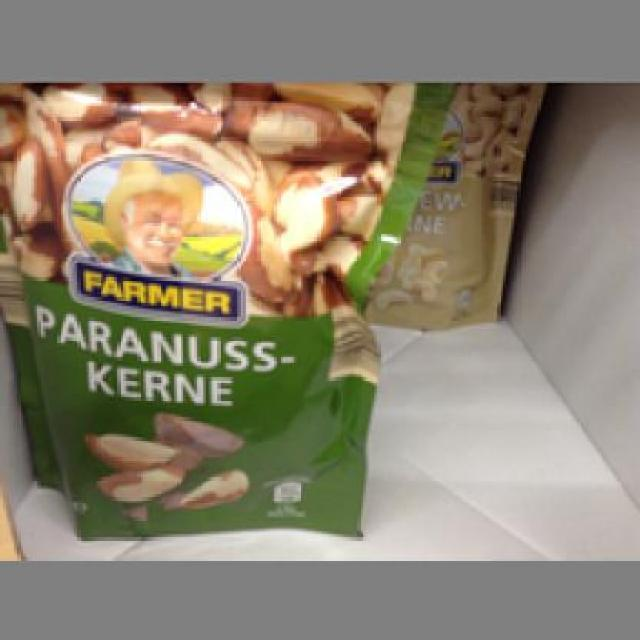Nuts: (0, 82, 426, 538)
